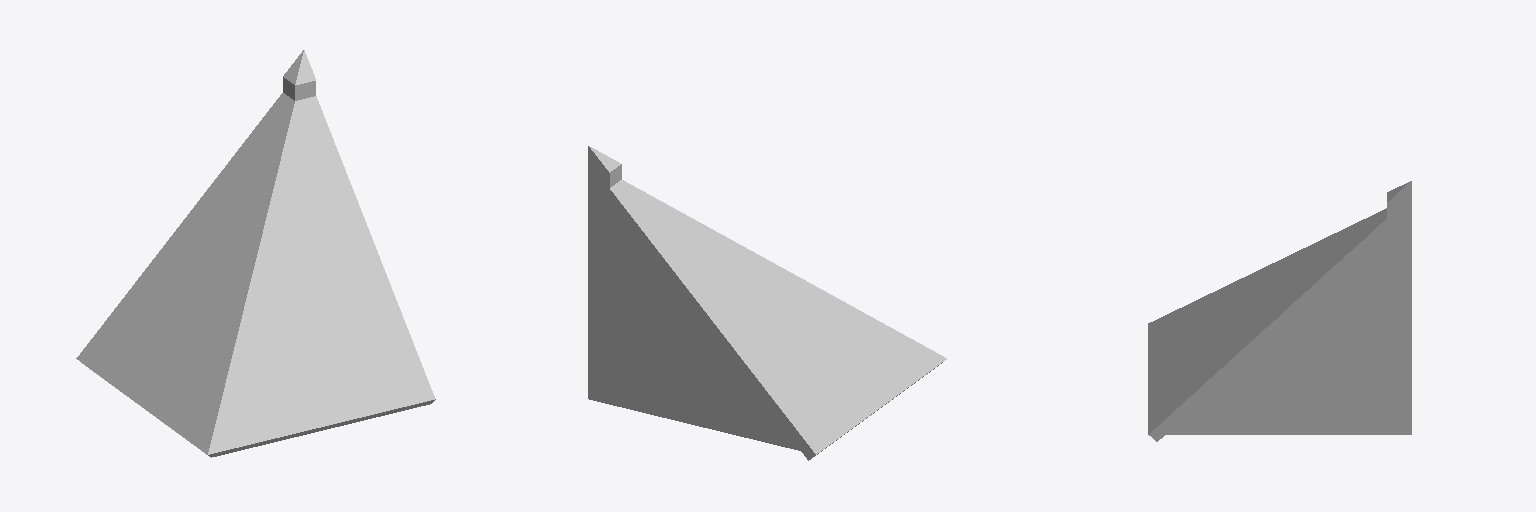
Rendered from roof-high-corner.obj.
3 renders of one model, left to right at view 1: azimuth 30°, elevation 25°; view 2: azimuth 150°, elevation 25°; view 3: azimuth 270°, elevation 25°, orthographic.
Parts seen in each view (by area): view 1: roof-high-corner; view 2: roof-high-corner; view 3: roof-high-corner.
Boxes of the visible parts, <box> form: roof-high-corner: <box>76,50,435,457</box>; roof-high-corner: <box>588,146,946,460</box>; roof-high-corner: <box>1148,181,1411,441</box>.
Size of the model in its own units: 1.07 by 1.18 by 1.07.